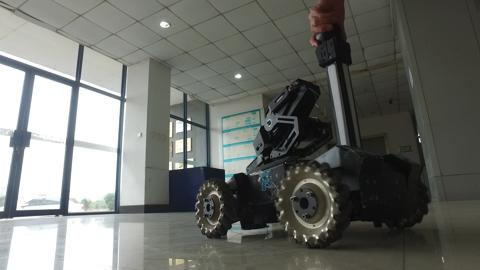chariot: (180, 20, 434, 253)
